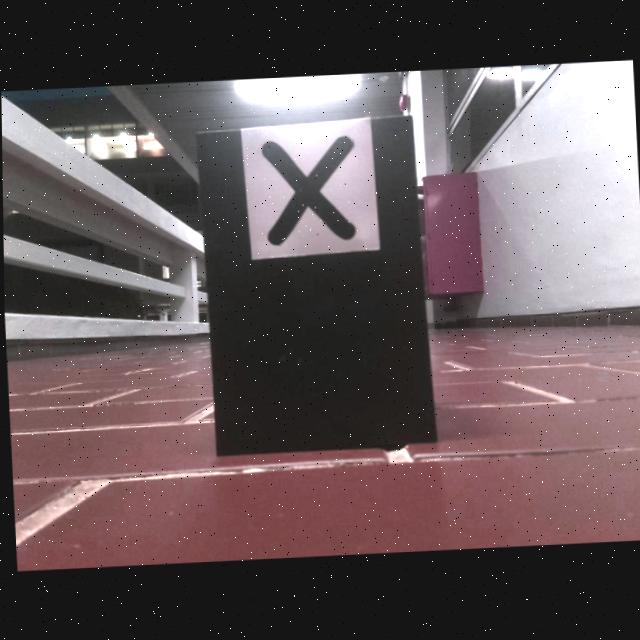X: (261, 138, 355, 245)
